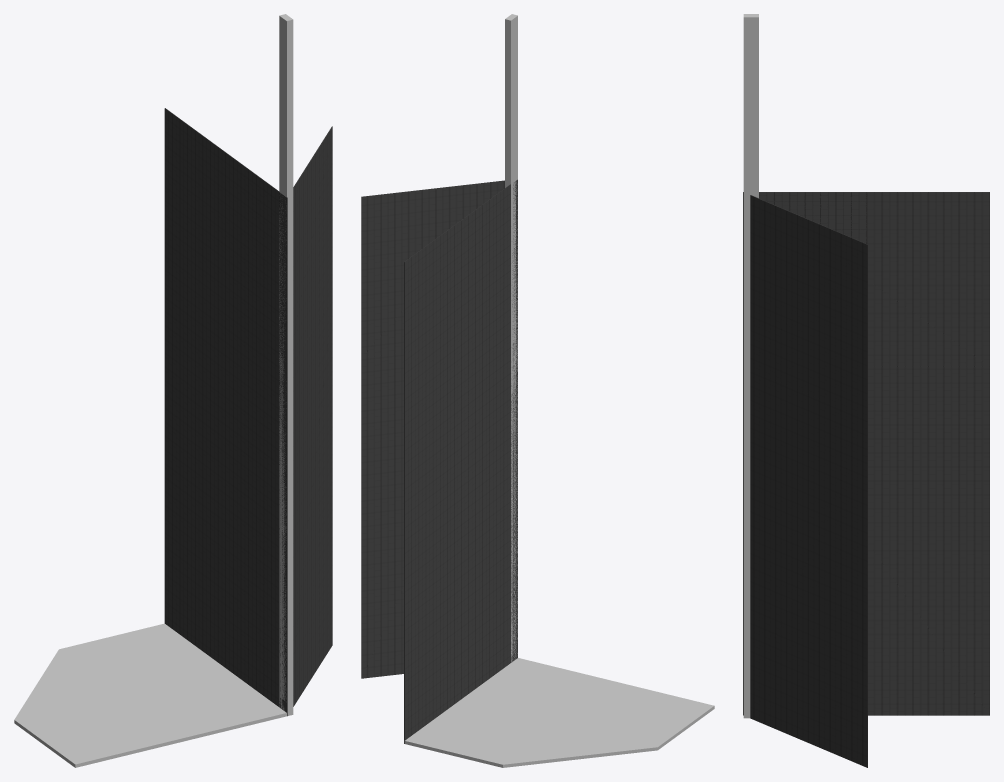
File: Building_Exterior.fbx
3 views of the same model, side by side, from view 1: azimuth 30°, elevation 25°; view 2: azimuth 150°, elevation 25°; view 3: azimuth 270°, elevation 25° (orthographic). The views are drawn at different scales.
Visible parts, largest first — view 1: SM_Facade_GlassWall1, SM_Facade_Floor1, SM_Glasswall2, SM_Pillar, SM_Glasswall3; view 2: SM_Facade_GlassWall1, SM_Glasswall2, SM_Facade_Floor1, SM_Pillar, SM_Glasswall3; view 3: SM_Facade_GlassWall1, SM_Glasswall2, SM_Pillar, SM_Glasswall3.
Part boxes in pixels (left/top/right/bottom): SM_Facade_GlassWall1: left=164, top=108, right=286, bottom=706; SM_Facade_Floor1: left=14, top=623, right=286, bottom=767; SM_Glasswall2: left=287, top=126, right=332, bottom=716; SM_Pillar: left=279, top=14, right=293, bottom=715; SM_Glasswall3: left=225, top=152, right=286, bottom=704; SM_Facade_GlassWall1: left=404, top=180, right=517, bottom=743; SM_Glasswall2: left=361, top=180, right=504, bottom=678; SM_Facade_Floor1: left=404, top=658, right=714, bottom=767; SM_Pillar: left=505, top=14, right=517, bottom=662; SM_Glasswall3: left=461, top=180, right=517, bottom=674; SM_Facade_GlassWall1: left=759, top=192, right=989, bottom=715; SM_Glasswall2: left=743, top=192, right=867, bottom=767; SM_Pillar: left=743, top=14, right=758, bottom=718; SM_Glasswall3: left=759, top=192, right=866, bottom=242.
Bounding box in the file's own units: 9647 × 20100 × 6414.
